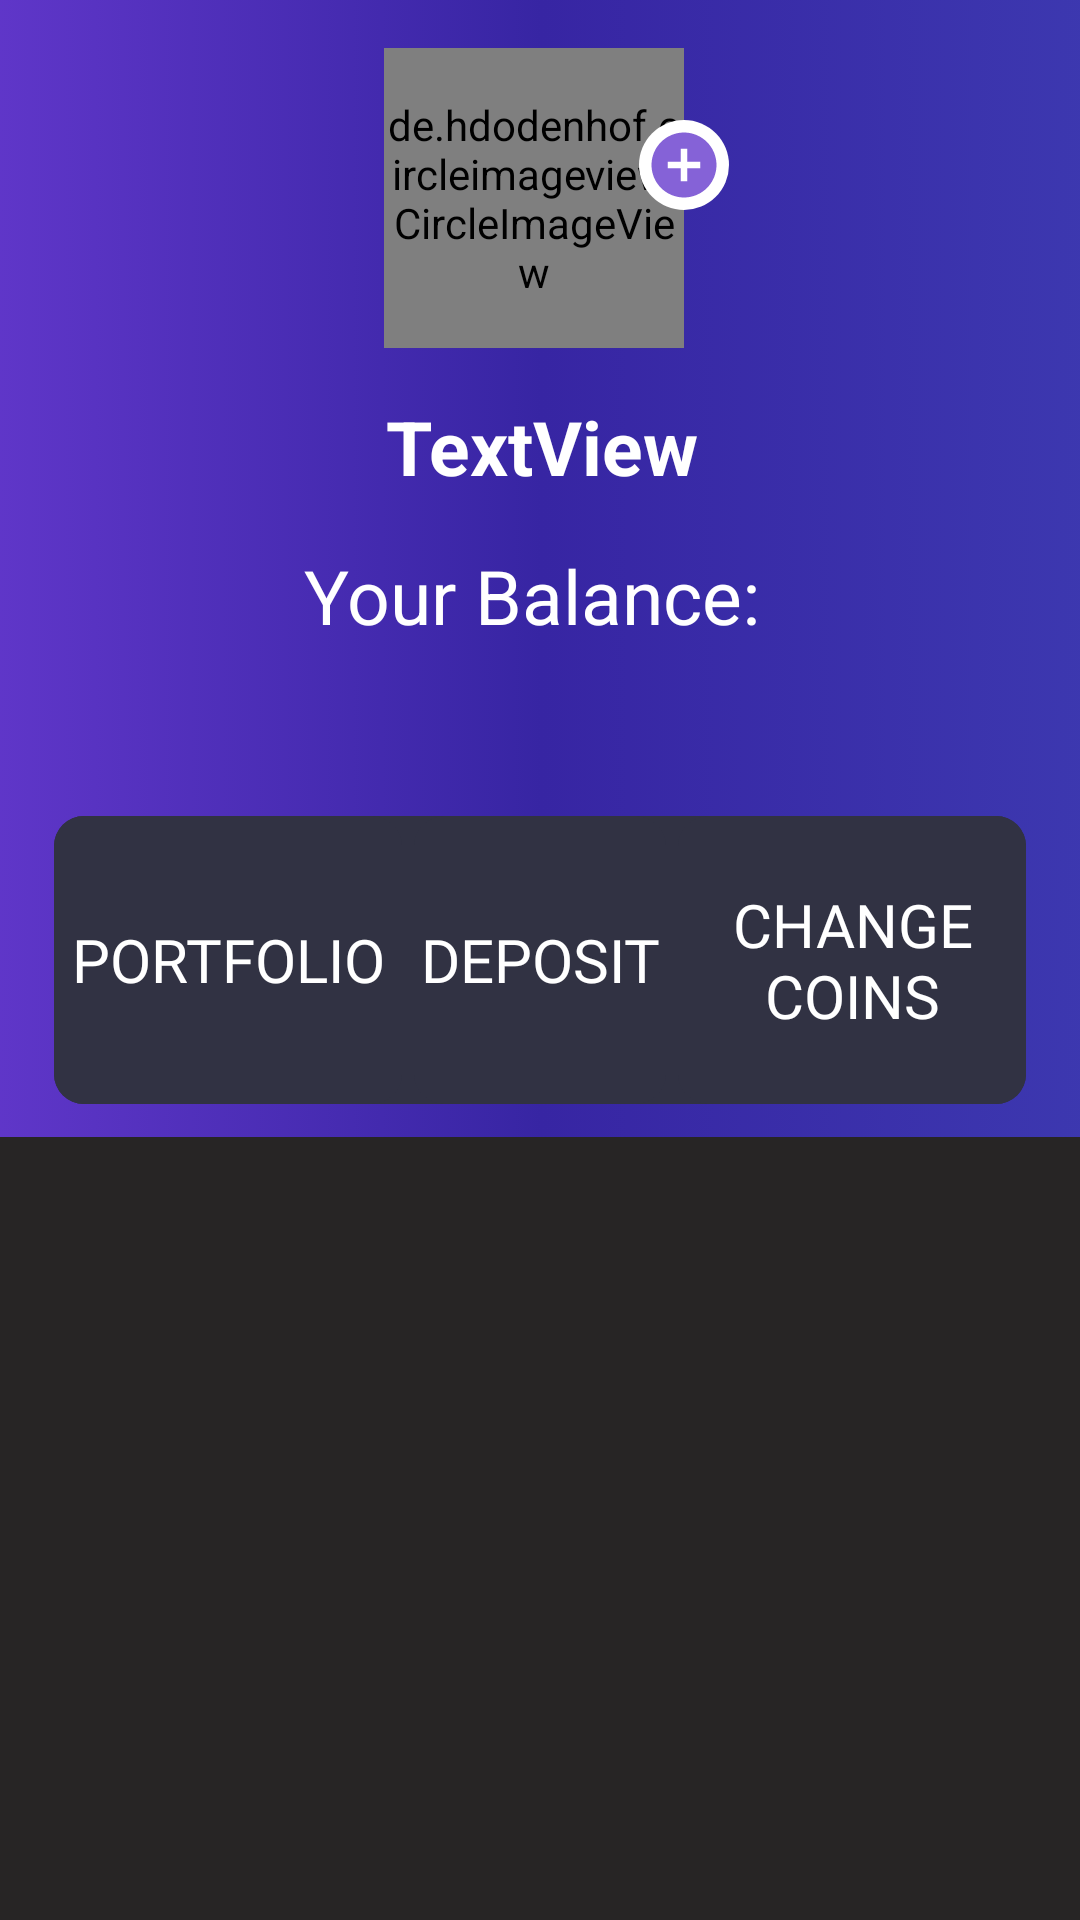

Where to tap for icons on this 1080*1920 app screen, as [x,y]:
add: [684,165]
